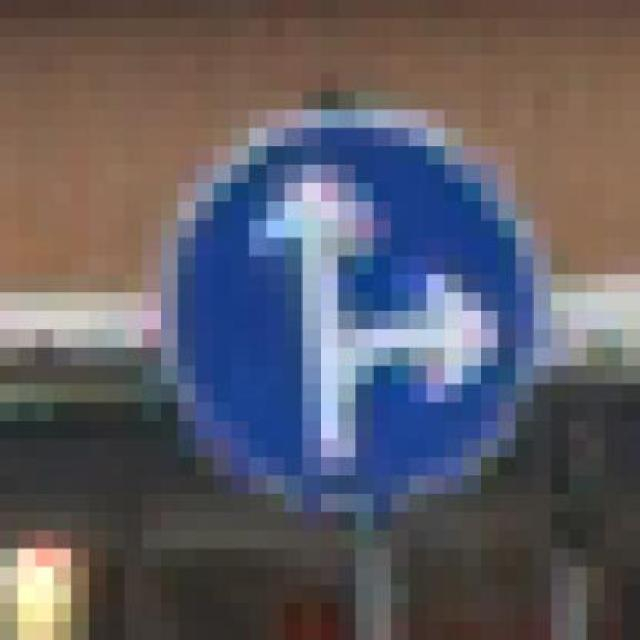Go Straight or Turn Right: (142, 73, 587, 530)
